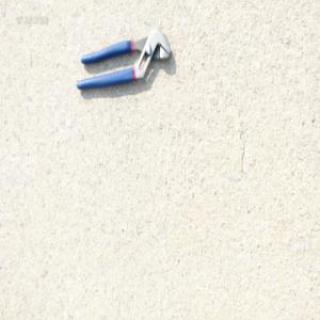Pliertrack_idkeyframe: (75, 26, 172, 91)
